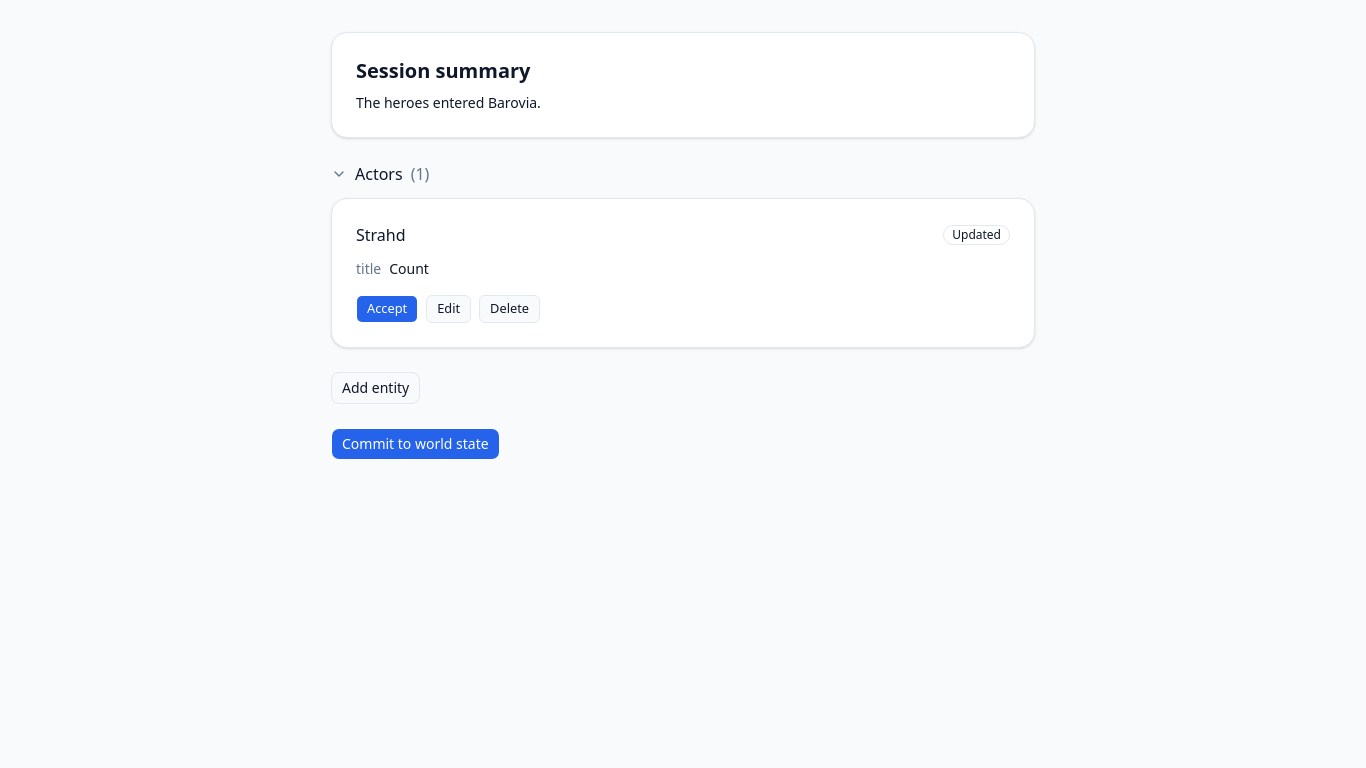
DiffReviewPage › adds an entity via the overlay and renders it as a card
Click the button "Add entity".
click(376, 388)  # box 331,372 -> 420,404
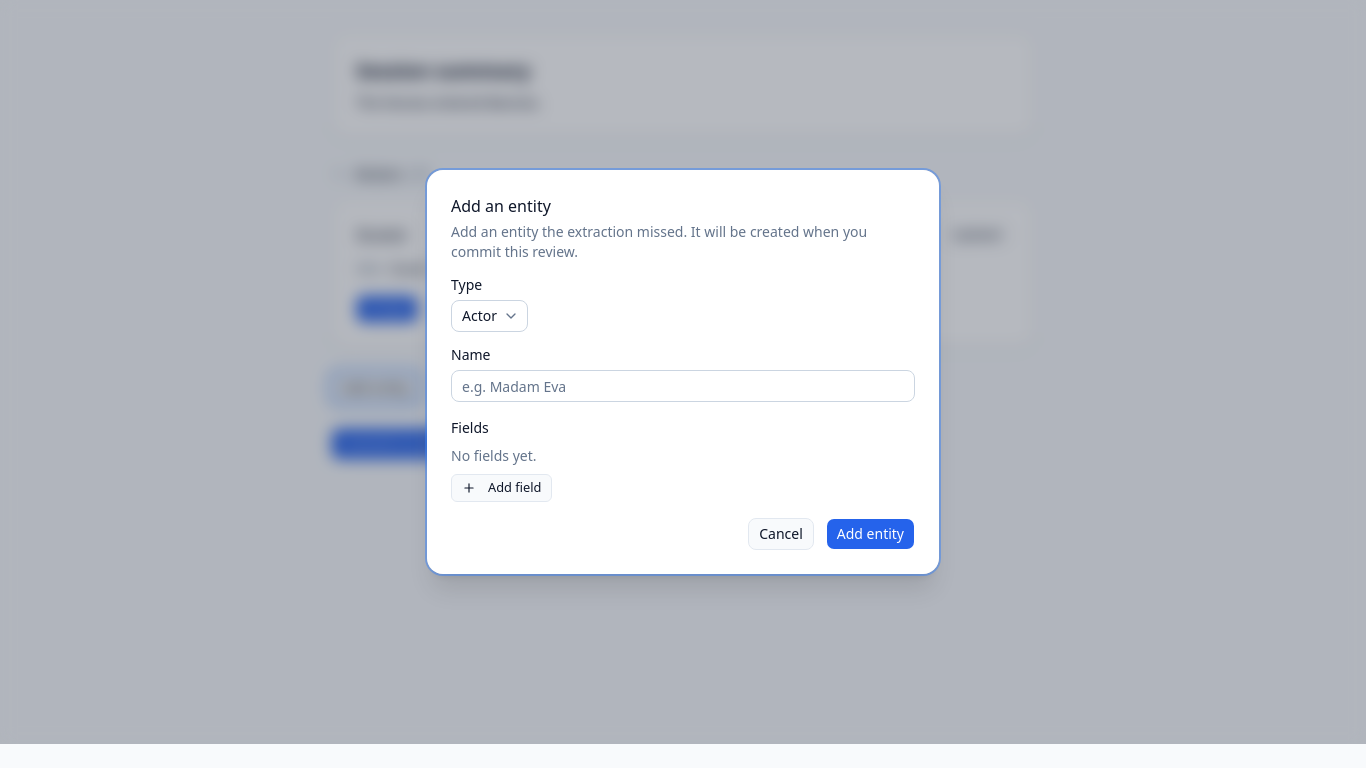
Type "Madam Eva" into the field labelled "Name".
click(683, 386); type("Madam Eva")  # box 451,370 -> 915,402
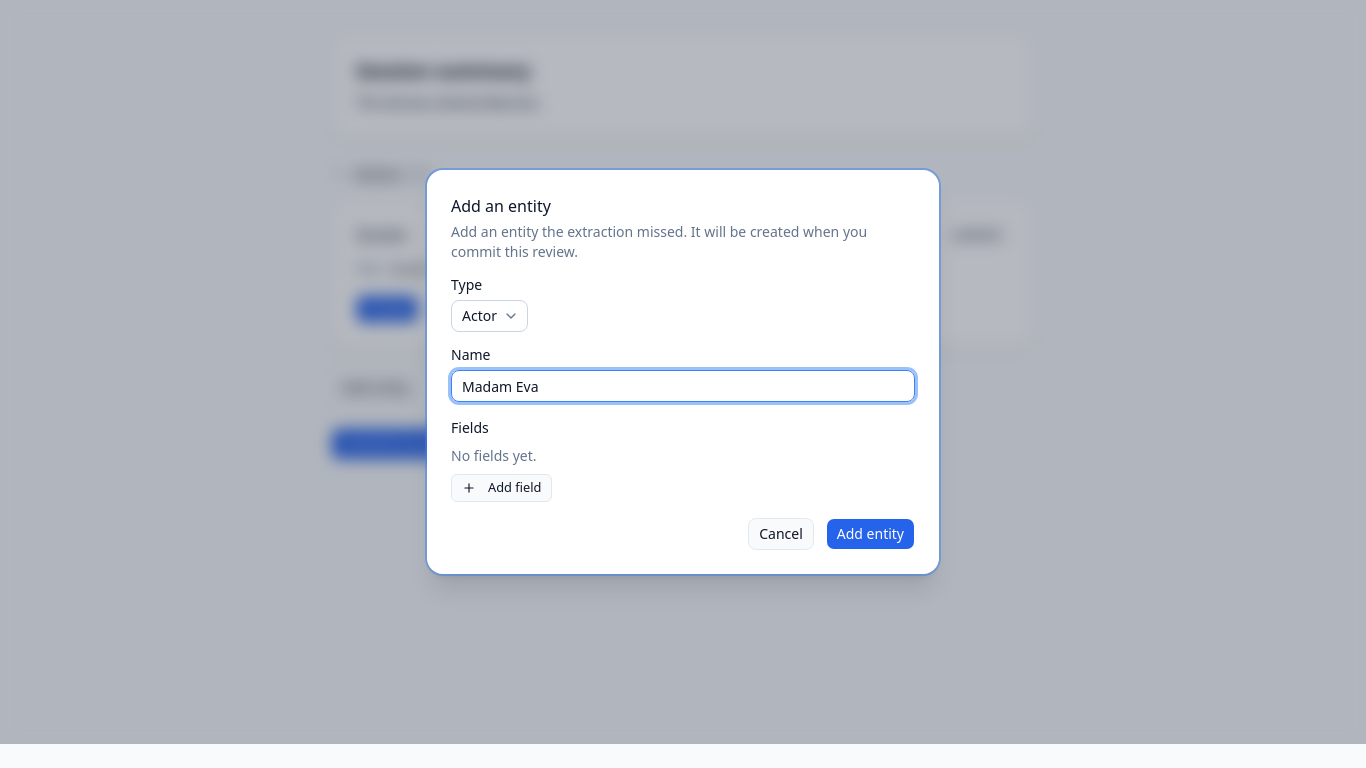
Click the button "Add entity".
click(870, 534)  # box 826,518 -> 915,550
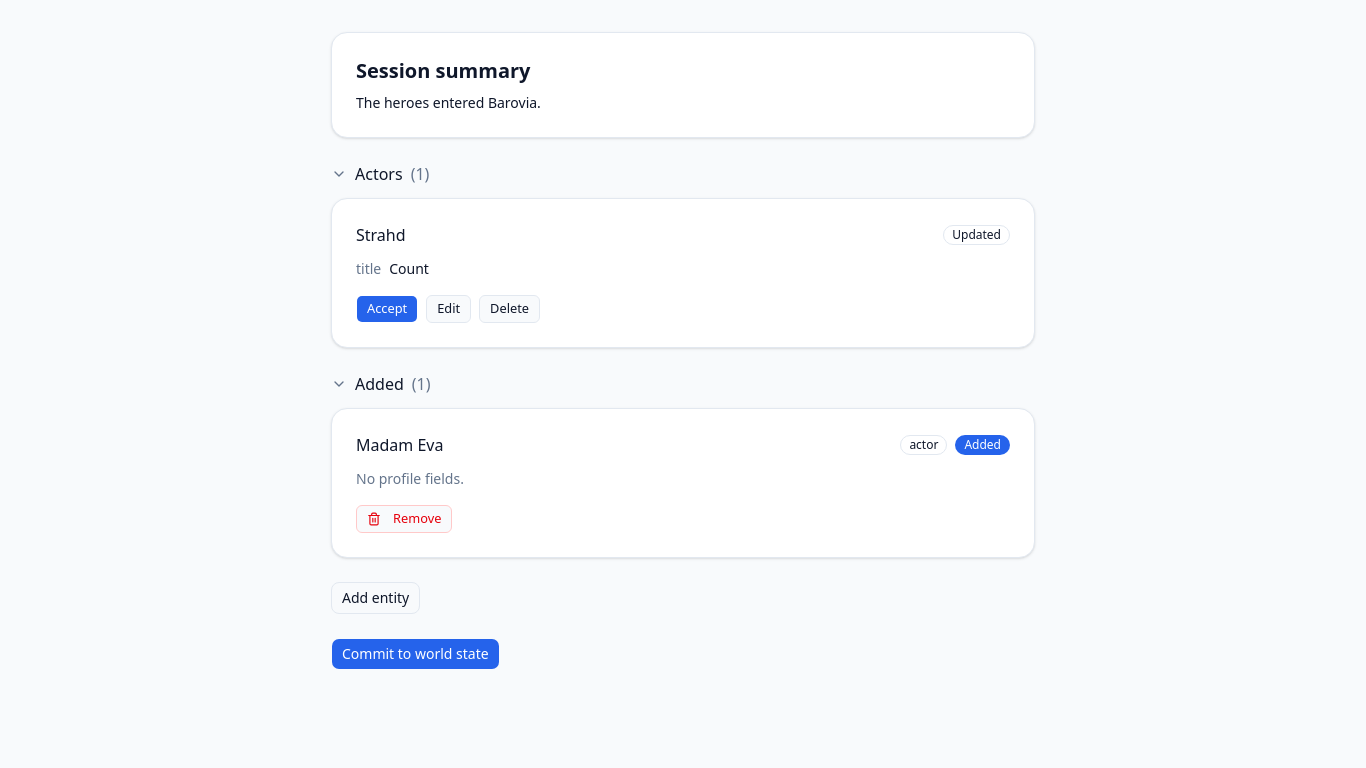
Expected: the dialog is gone
Expected: the element "Added (1) Madam Eva actor Added No profile fields. Remove" is shown, 331,372 -> 1035,558
Expected: the heading "Madam Eva" is shown, 356,433 -> 443,457
